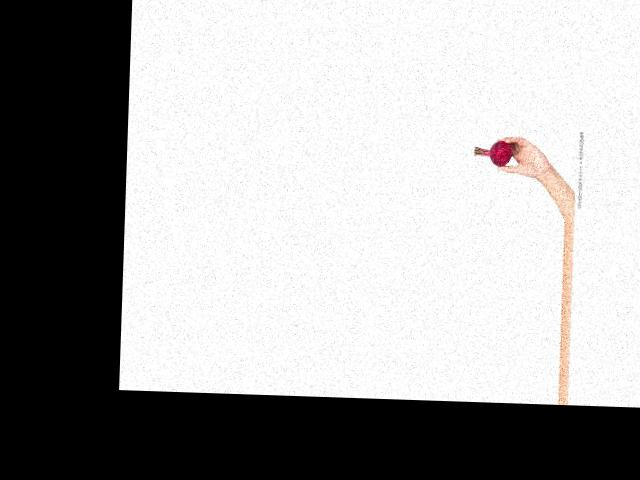beet: (473, 139, 511, 166)
